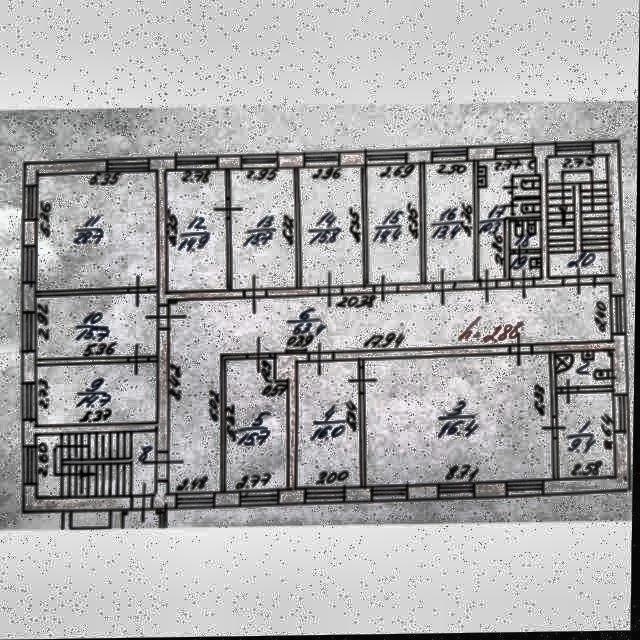room: (164, 287, 616, 494), (363, 355, 555, 487), (35, 172, 159, 291), (230, 168, 298, 291), (226, 359, 289, 491), (36, 293, 160, 360), (297, 362, 362, 489), (300, 168, 364, 288), (38, 433, 158, 497), (547, 158, 610, 278), (36, 364, 159, 425), (167, 170, 228, 292), (479, 161, 536, 281), (367, 166, 422, 286), (425, 164, 475, 284), (559, 394, 615, 479), (557, 354, 613, 389), (510, 222, 541, 251), (510, 255, 541, 280), (514, 178, 540, 197), (514, 201, 541, 218)
